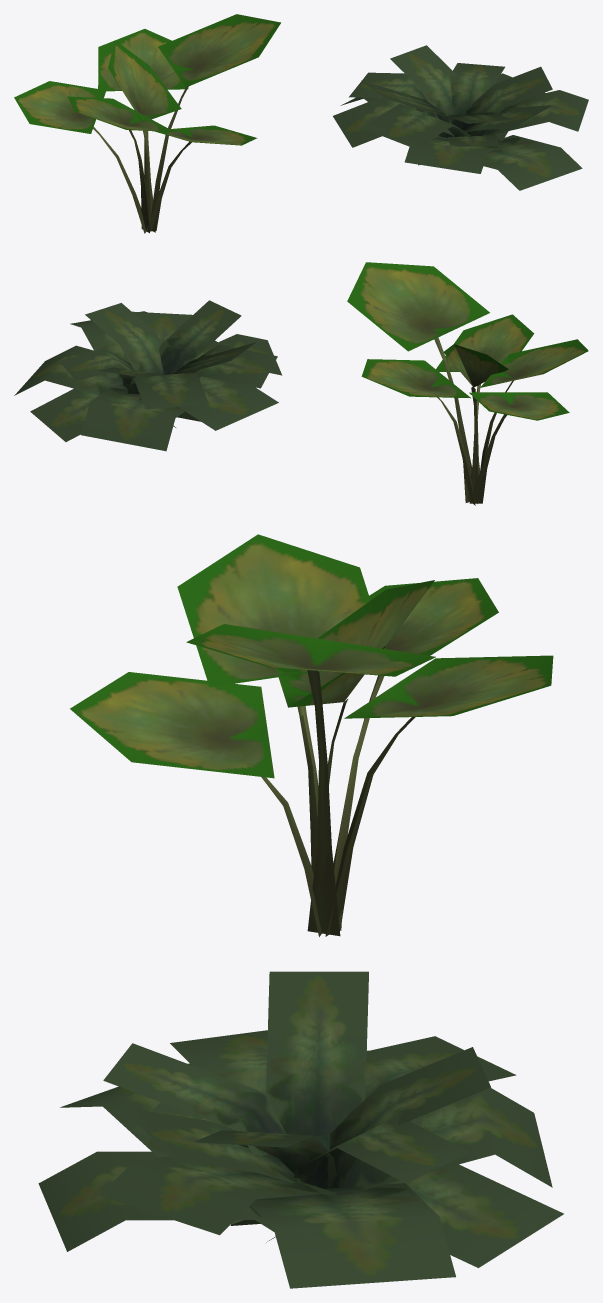
The model's file is FB_1_guanmu02.FBX.
3 renders of one model, top to bottom at view 1: azimuth 30°, elevation 25°; view 2: azimuth 150°, elevation 25°; view 3: azimuth 270°, elevation 25°, orthographic. The views are drawn at different scales.
Visible parts, largest first — view 1: FB_1_guanmu02_002, FB_1_guanmu02_001; view 2: FB_1_guanmu02_002, FB_1_guanmu02_001; view 3: FB_1_guanmu02_002, FB_1_guanmu02_001.
Part boxes in pixels (x1,y1,x2,y2): FB_1_guanmu02_002: [333, 45, 588, 190]; FB_1_guanmu02_001: [14, 14, 280, 233]; FB_1_guanmu02_002: [14, 300, 282, 451]; FB_1_guanmu02_001: [347, 262, 588, 505]; FB_1_guanmu02_002: [38, 971, 563, 1288]; FB_1_guanmu02_001: [70, 534, 553, 936].
Bounding box in the file's own units: 527 × 183 × 229.
